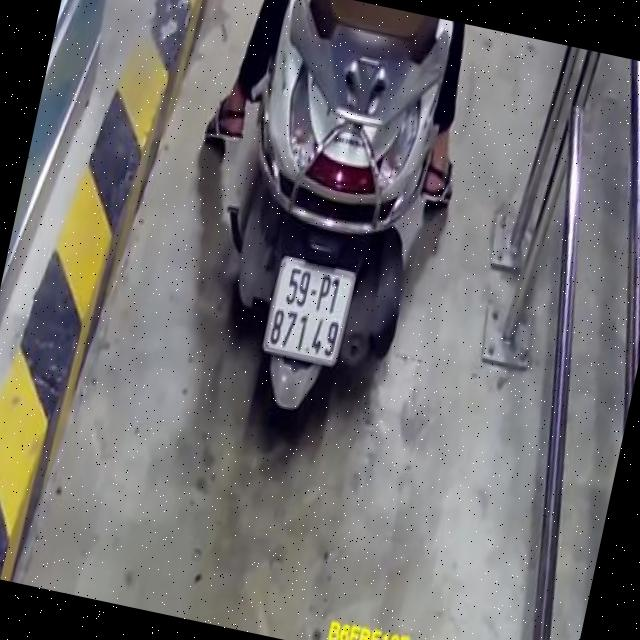license_plate: (259, 248, 360, 370)
